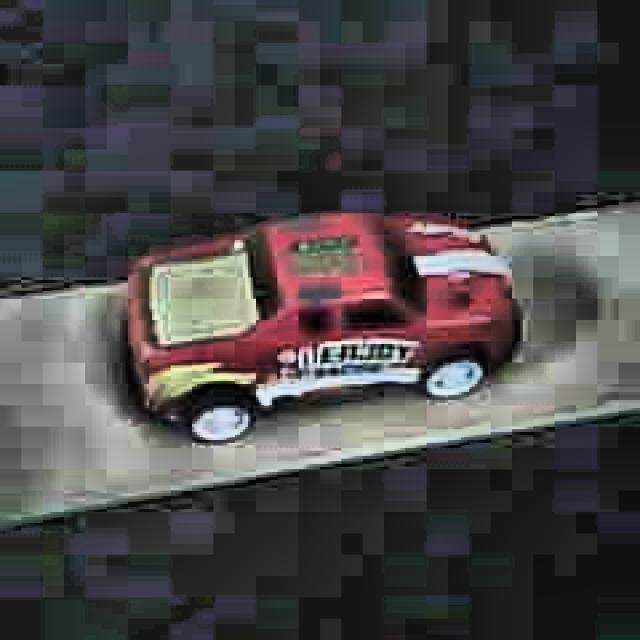car: (120, 207, 523, 448)
